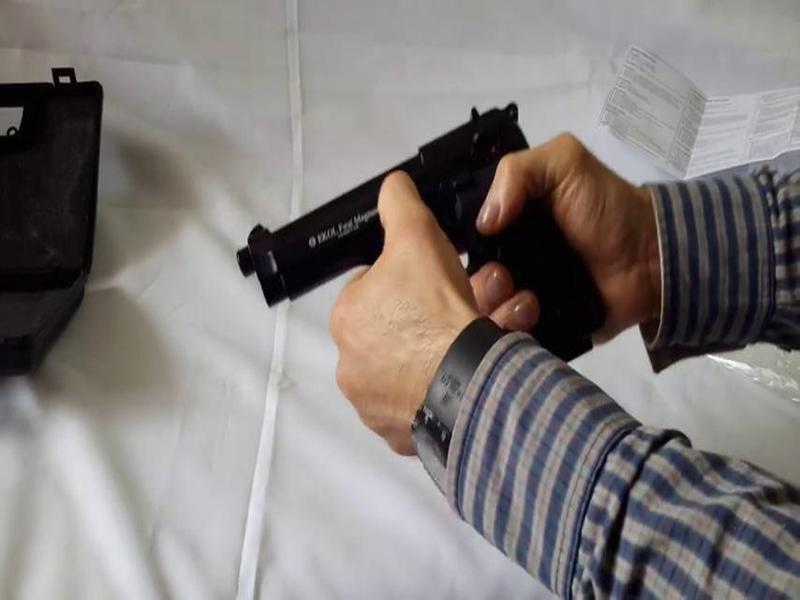Pistola: (228, 101, 607, 364)
